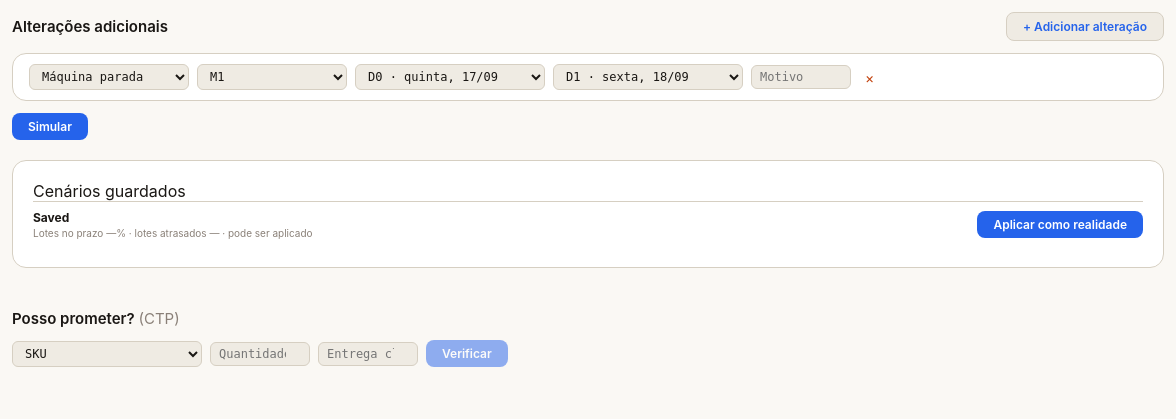
Test: keeps a saved scenario conflict visible without retrying or discarding the draft
Click the button "Aplicar como realidade" at (1060, 224), box [977,211,1143,238]
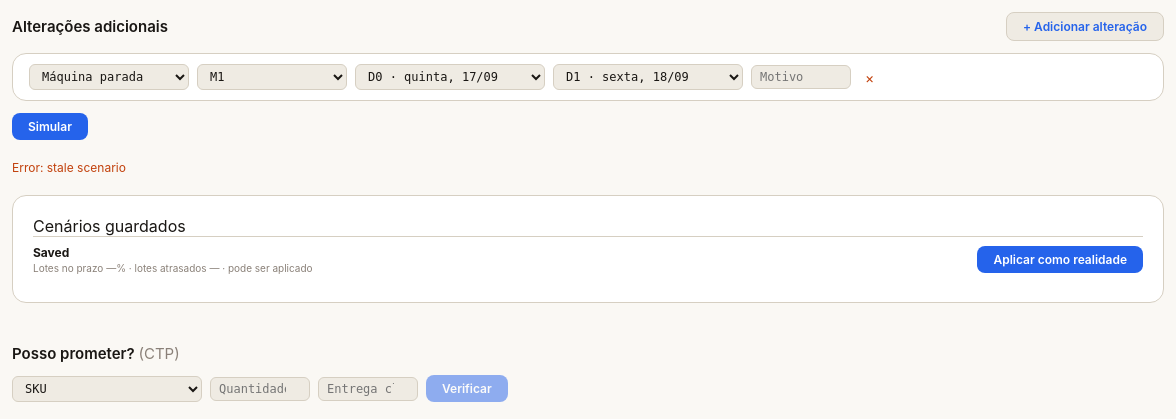
Check: the text "Error: stale scenario" is shown, box [12,160,126,175]
